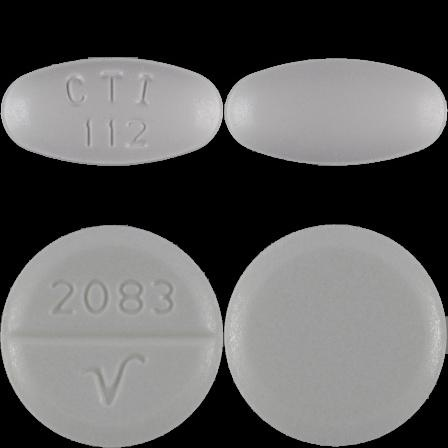50268-061: (0, 0, 224, 224)
